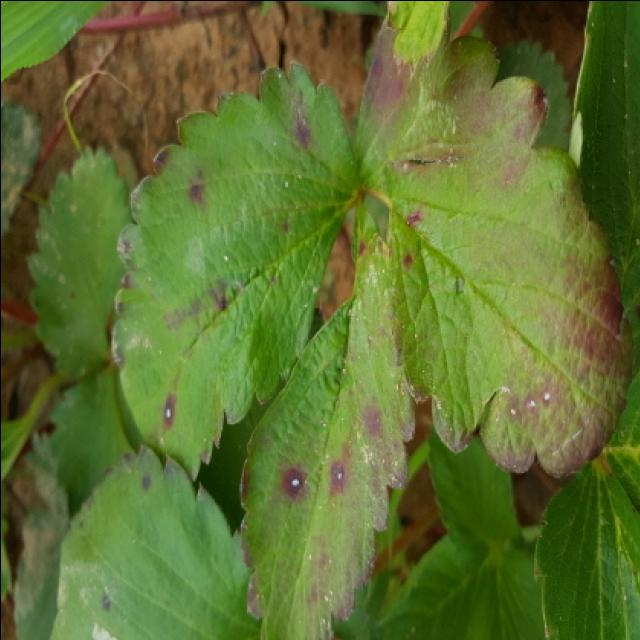Leaf Spot: (351, 12, 631, 479), (109, 61, 362, 482), (235, 198, 417, 640), (46, 442, 260, 640)
